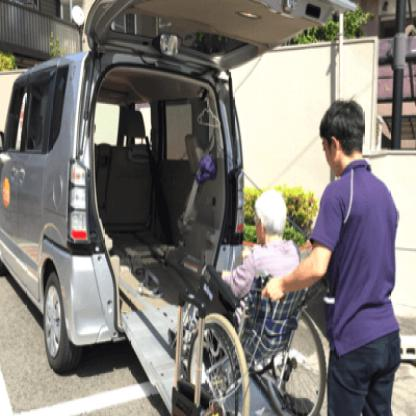wheelchair: (168, 186, 330, 414)
